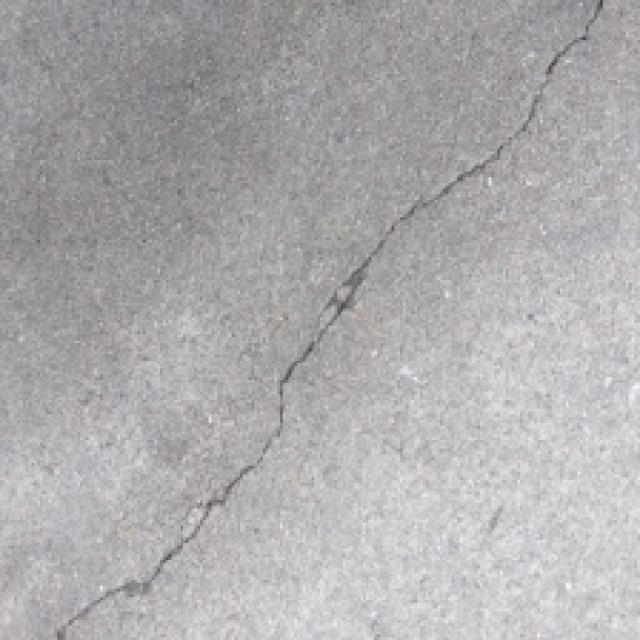crack: (48, 0, 610, 640)
